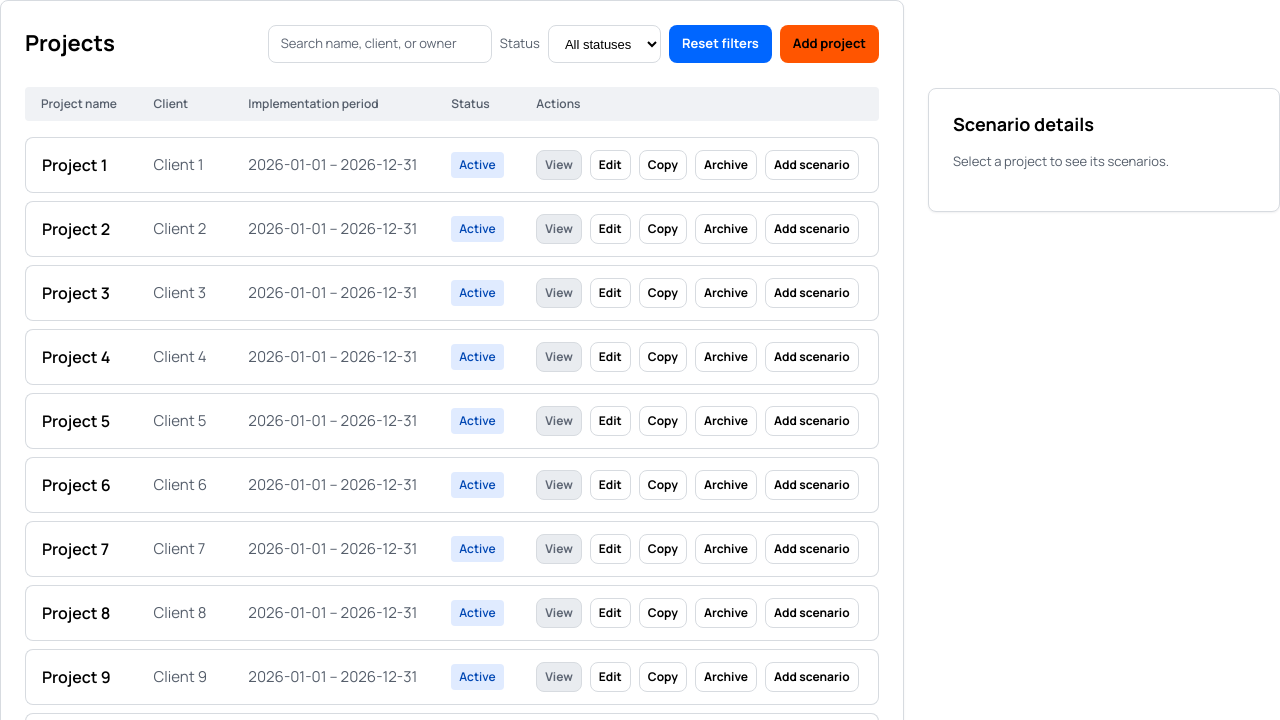
Test case: project search and pagination › sends server-side search, status and page parameters together, and reset clears them
The width and height of the screenshot is (1280, 720).
Type "Orchid" into the search field named "Search projects" at (380, 44), box [268, 25, 492, 63]
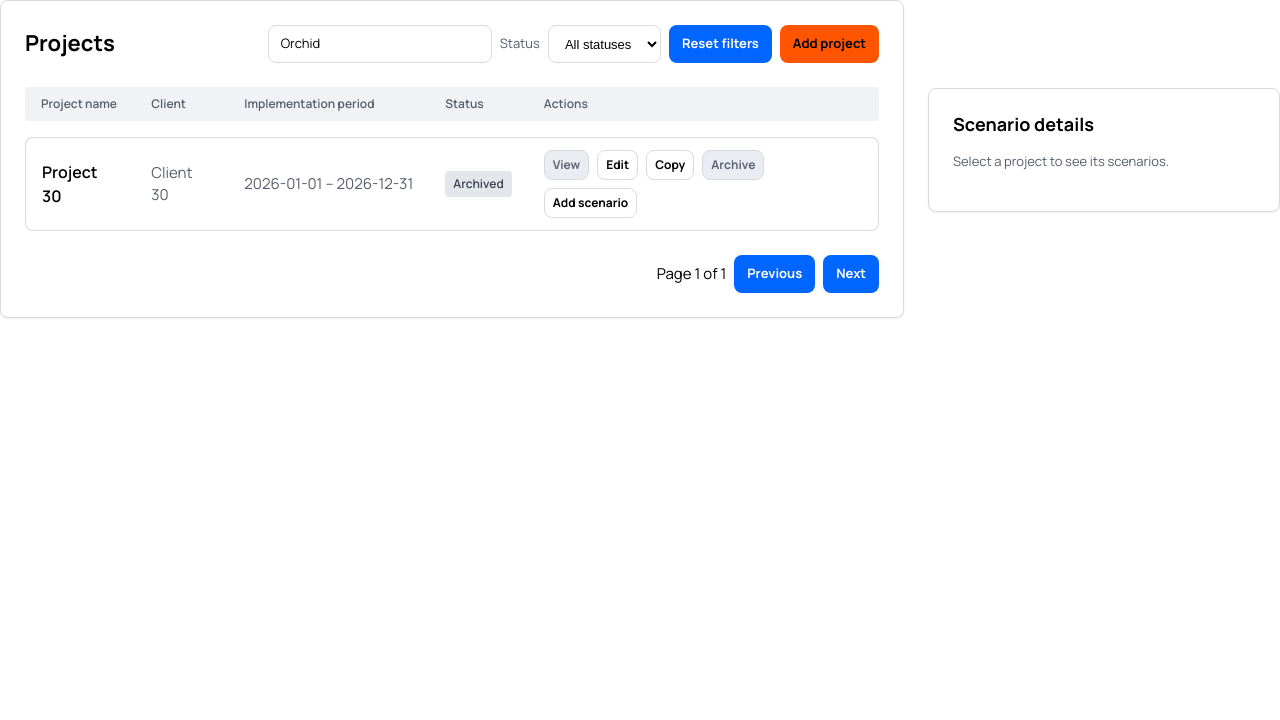
Now the row "Project 30" is shown, box [25, 137, 879, 231]
Select "Archived" in the dropdown named "Filter projects by status" at (604, 44), box [548, 25, 661, 63]
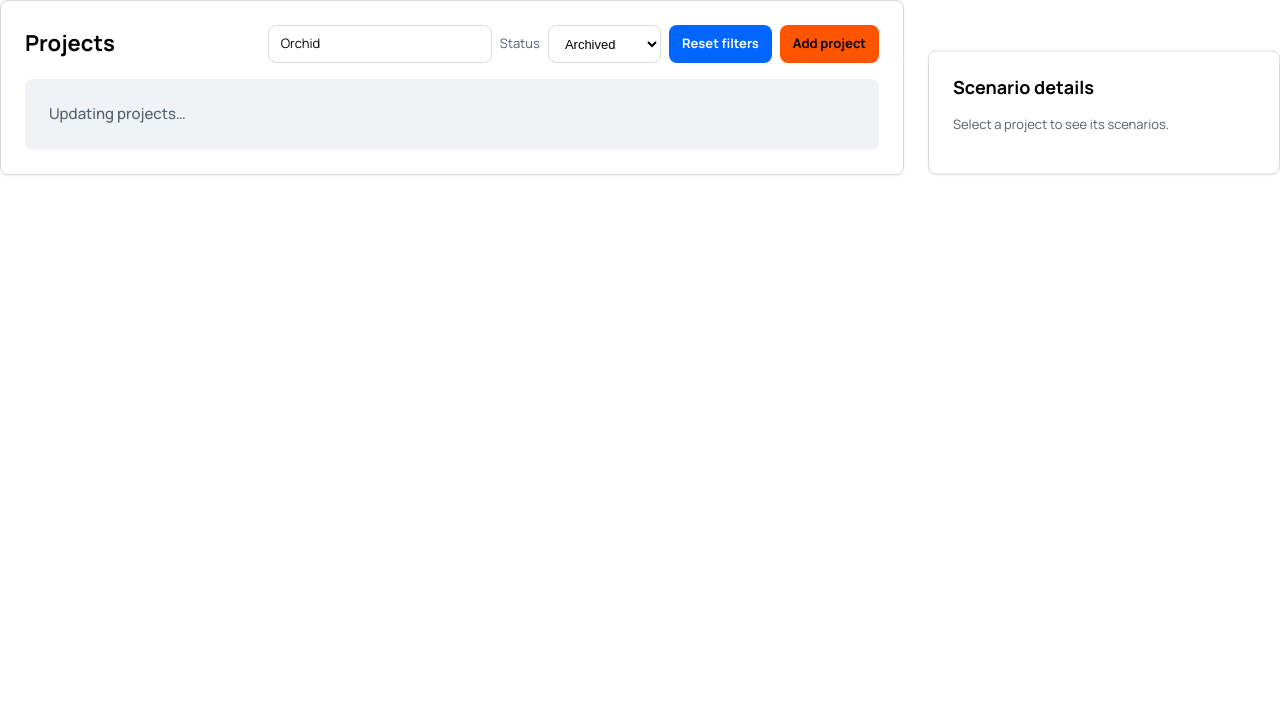
Click the button "Reset filters" at (720, 44), box [669, 25, 772, 63]
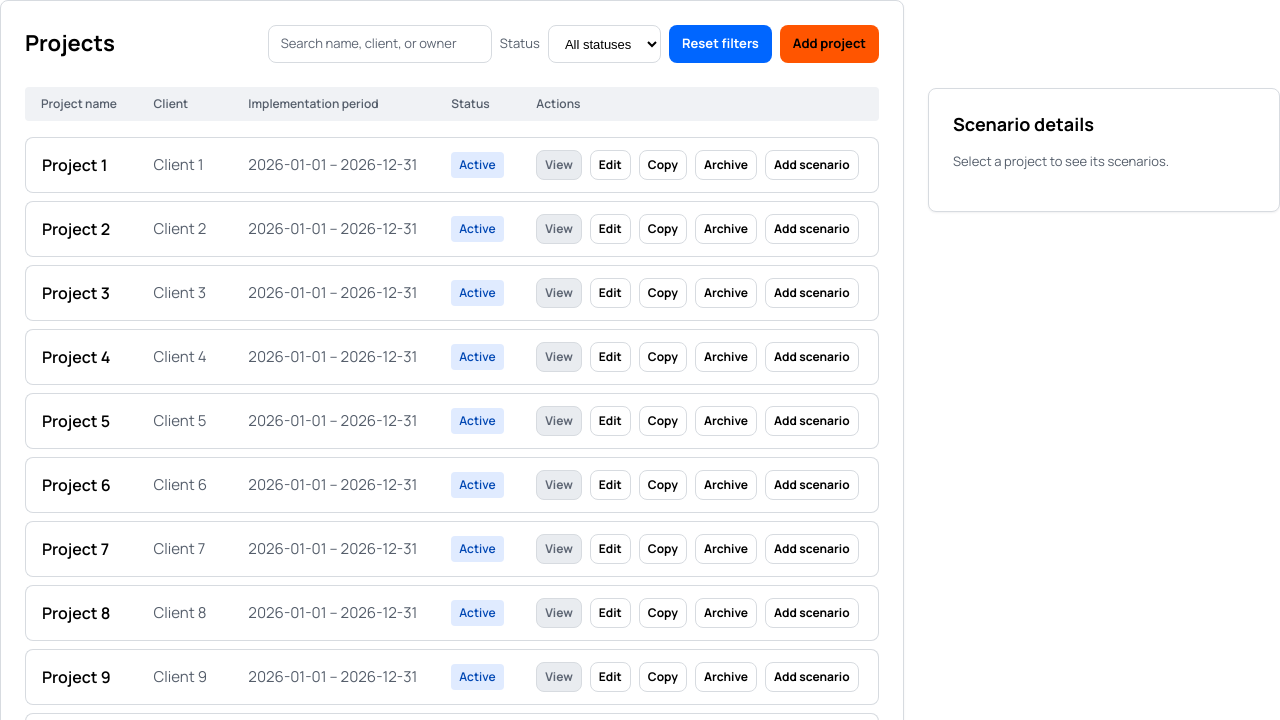
Now the search field named "Search projects" is empty, box [268, 25, 492, 63]
